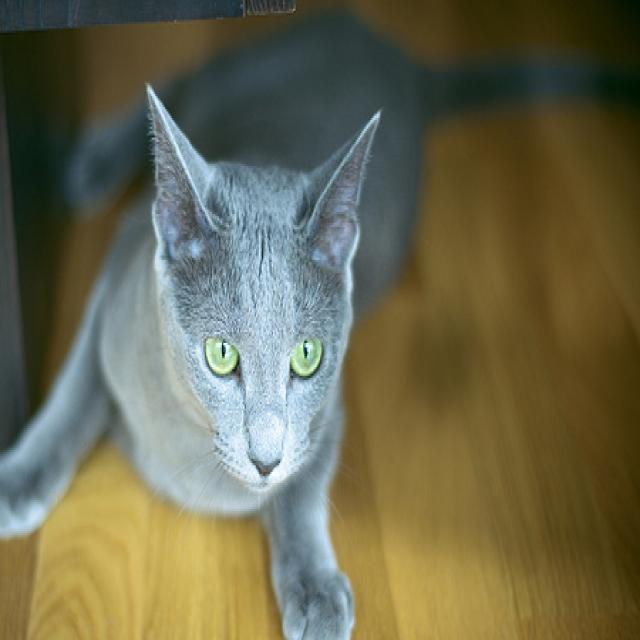Russian Blue: (0, 6, 422, 640)
